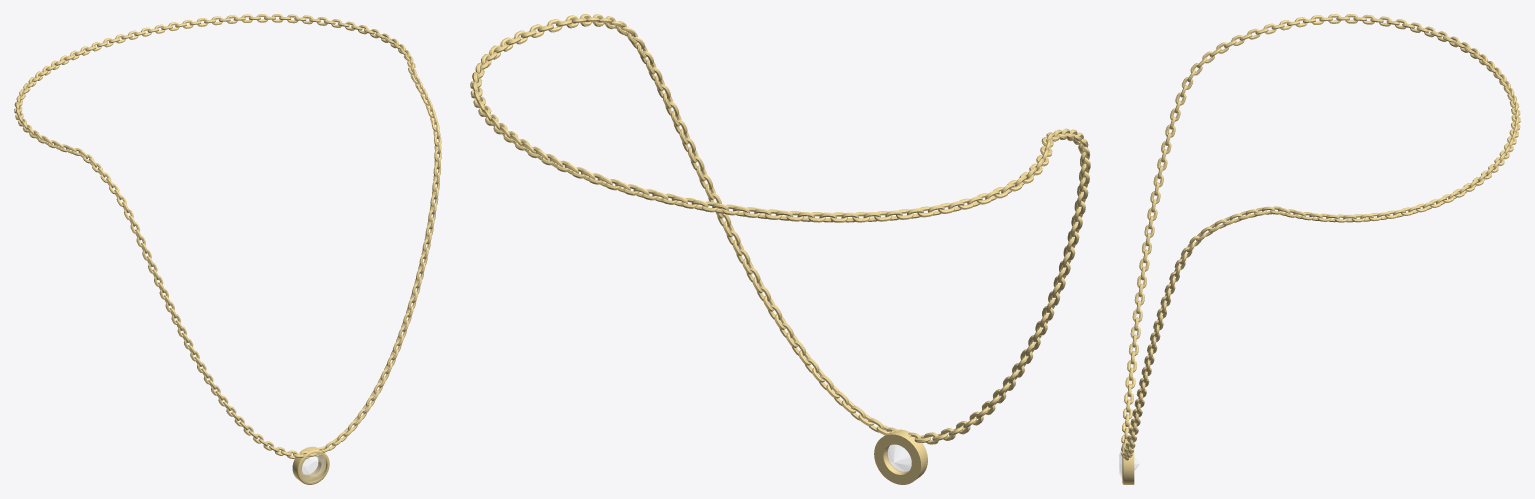
Rendered from bezel_solitaire_necklace.glb.
3 renders of one model, left to right at view 1: azimuth 30°, elevation 25°; view 2: azimuth 150°, elevation 25°; view 3: azimuth 270°, elevation 25°, orthographic. The views are drawn at different scales.
Visible parts, largest first — view 1: bezel_solitaire_necklace; view 2: bezel_solitaire_necklace; view 3: bezel_solitaire_necklace.
Part boxes in pixels (x1=…): bezel_solitaire_necklace: x1=14, y1=14, x2=441, y2=484; bezel_solitaire_necklace: x1=470, y1=14, x2=1090, y2=484; bezel_solitaire_necklace: x1=1119, y1=14, x2=1520, y2=484.
Size of the model in its own units: 8.46 by 7.13 by 7.05.
